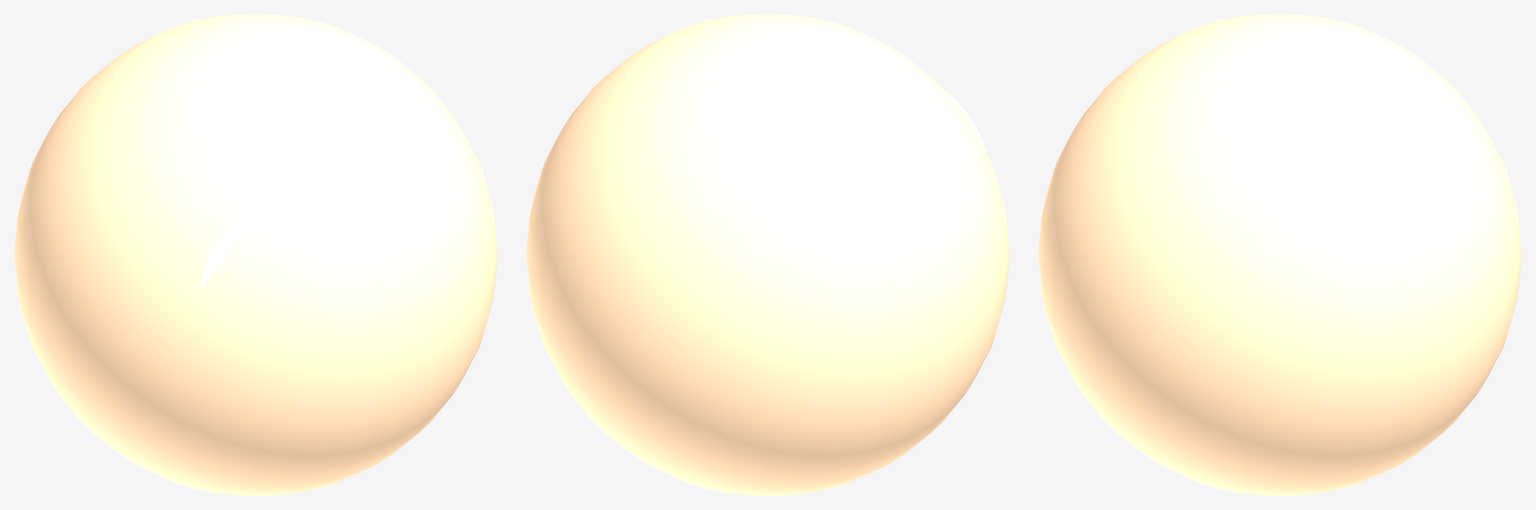
File: special_bubble_fire.glb
The picture shows the model from 3 angles, left to right: view 1: azimuth 30°, elevation 25°; view 2: azimuth 150°, elevation 25°; view 3: azimuth 270°, elevation 25°; orthographic projection.
Visible parts, largest first — view 1: special_bubble_fire; view 2: special_bubble_fire; view 3: special_bubble_fire.
Part boxes in pixels (x1,y1,x2,y2): special_bubble_fire: [14, 14, 497, 495]; special_bubble_fire: [526, 14, 1009, 495]; special_bubble_fire: [1038, 14, 1521, 495].
Size of the model in its own units: 0.9 by 0.9 by 0.9.
